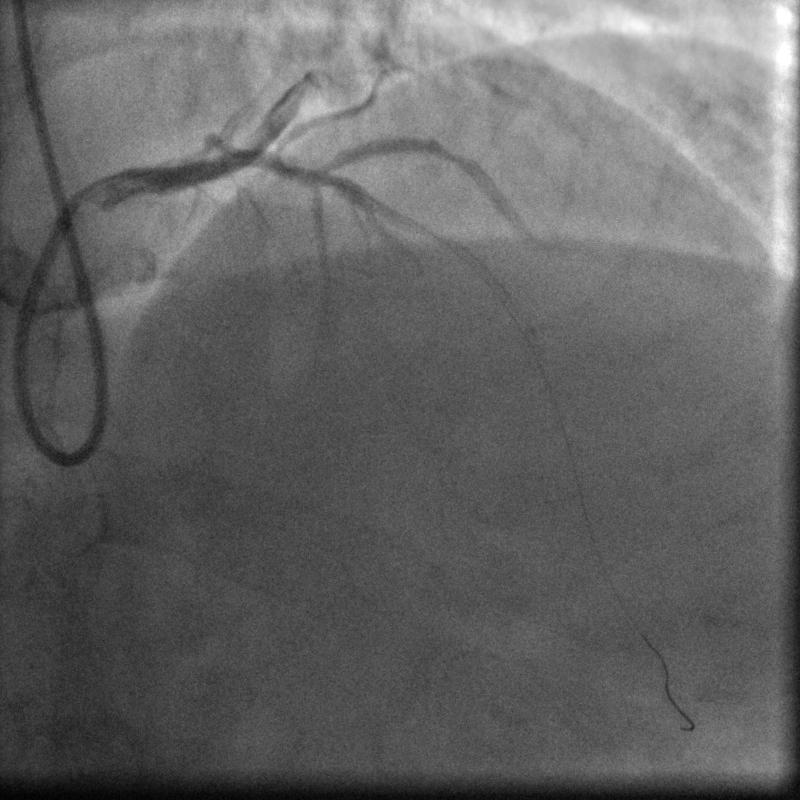Stenosis: (432, 132, 473, 173)
